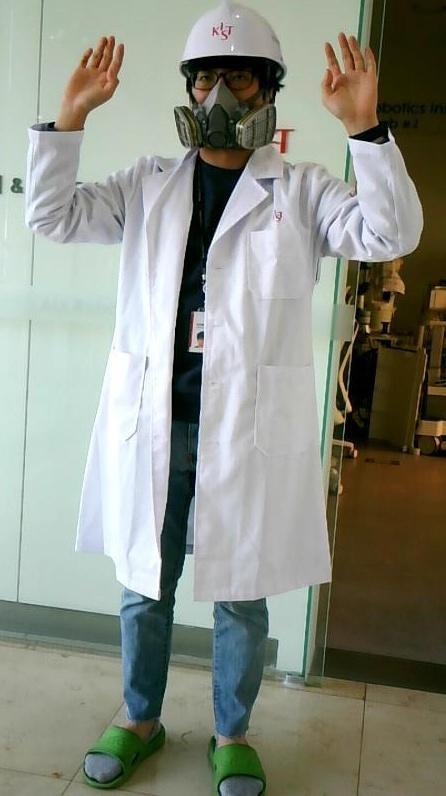lab_coat: (73, 162, 349, 573)
